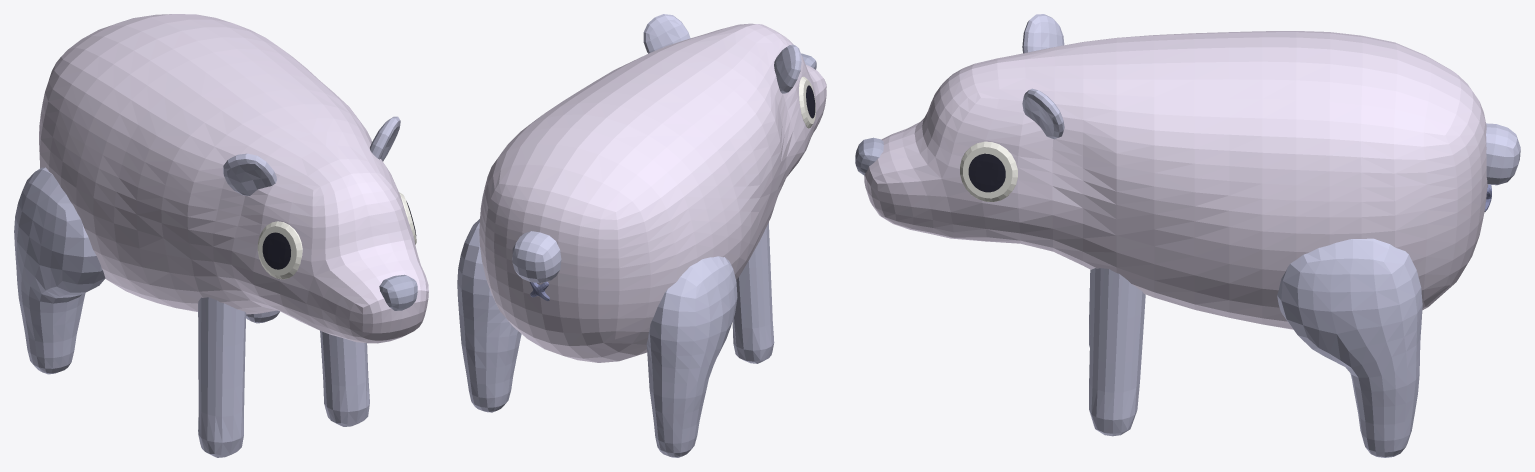
The model's file is PolarBear_LOD0.fbx.
3 renders of one model, left to right at view 1: azimuth 30°, elevation 25°; view 2: azimuth 150°, elevation 25°; view 3: azimuth 270°, elevation 25°, orthographic. The views are drawn at different scales.
Visible parts, largest first — view 1: Mesh; view 2: Mesh; view 3: Mesh.
Part boxes in pixels (left/top/right/bottom): Mesh: left=14, top=14, right=428, bottom=457; Mesh: left=457, top=14, right=826, bottom=457; Mesh: left=855, top=14, right=1520, bottom=457.
Bounding box in the file's own units: 181 × 206 × 350.
Materials: 1 (1 with a texture image).
